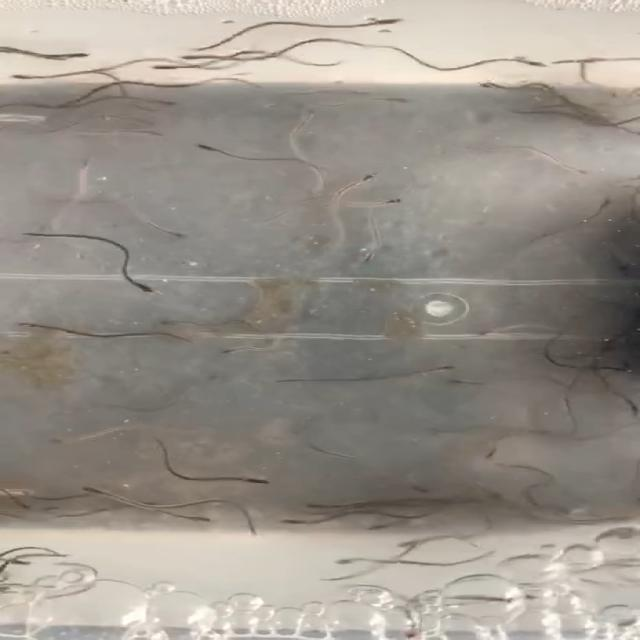active_glass_eel: (208, 340, 301, 366), (272, 97, 329, 136), (147, 218, 197, 248), (366, 9, 421, 33), (383, 87, 428, 116), (504, 48, 553, 72), (340, 242, 385, 267), (13, 70, 54, 97), (352, 169, 392, 196), (10, 314, 47, 342), (152, 512, 215, 528), (373, 194, 418, 216), (240, 474, 283, 497), (238, 524, 280, 547), (149, 93, 194, 114), (49, 429, 84, 454), (55, 47, 101, 66), (118, 276, 161, 296), (186, 138, 226, 159), (551, 164, 599, 181), (435, 356, 460, 388), (272, 511, 309, 532), (331, 554, 378, 569), (127, 124, 161, 142), (154, 60, 187, 77), (152, 313, 182, 330), (370, 520, 396, 538), (181, 48, 203, 68), (481, 444, 500, 462)
